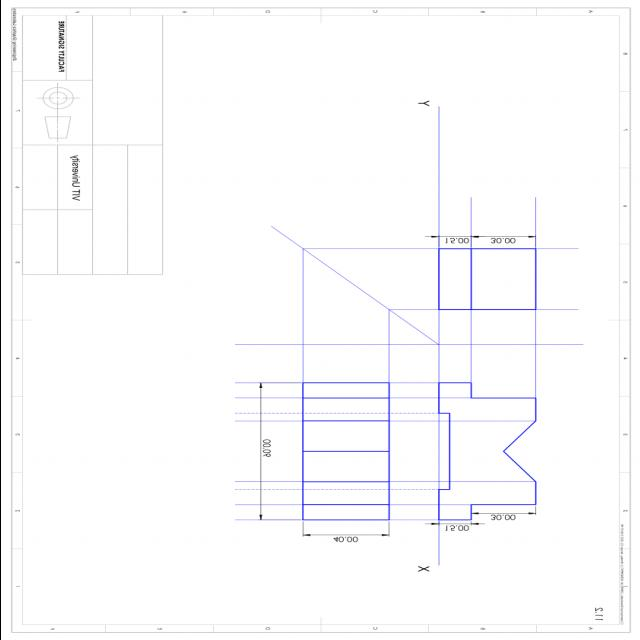Drawings: (234, 217, 558, 577)
